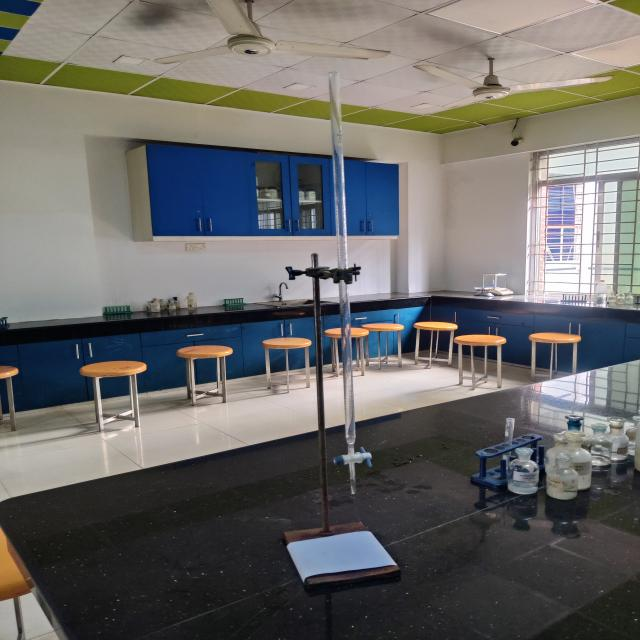Burette_Stands: (260, 62, 413, 592)
